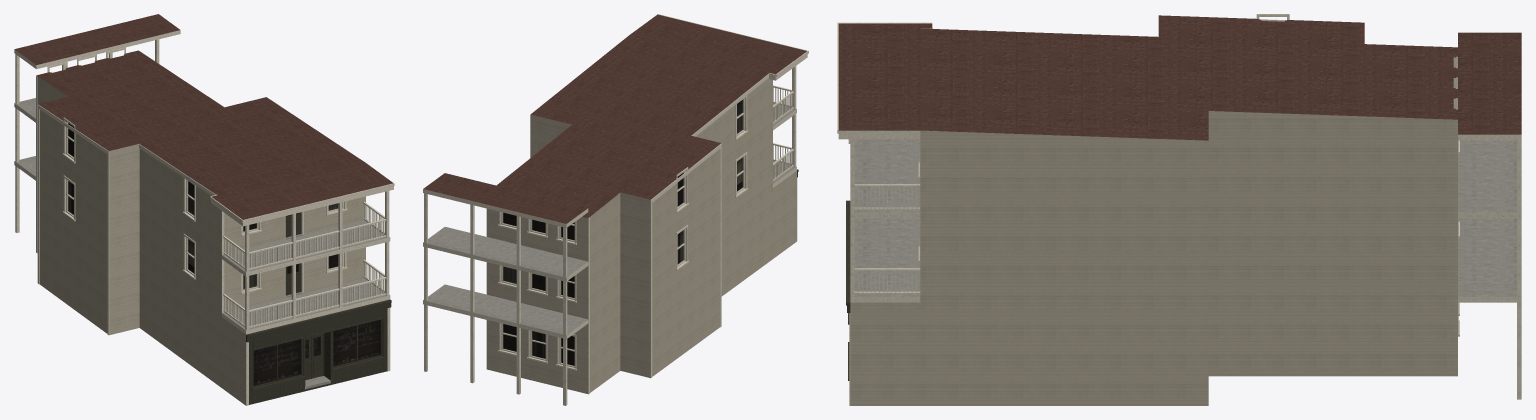
File: store-100-102.glb
The picture shows the model from 3 angles, left to right: view 1: azimuth 30°, elevation 25°; view 2: azimuth 150°, elevation 25°; view 3: azimuth 270°, elevation 25°; orthographic projection. The views are drawn at different scales.
Parts seen in each view (by area): view 1: Store100102; view 2: Store100102; view 3: Store100102.
Part boxes in pixels (x1,y1,x2,y2): Store100102: [14, 14, 394, 405]; Store100102: [423, 14, 808, 405]; Store100102: [837, 14, 1521, 405].
Size of the model in its own units: 9.04 by 9.35 by 21.02.
7 materials, 6 textured.
